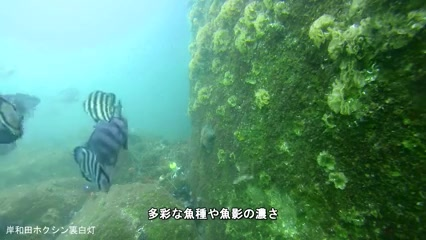ishidai: (72, 146, 114, 193), (79, 89, 129, 123)
